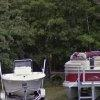Boat: (2, 55, 49, 96)
